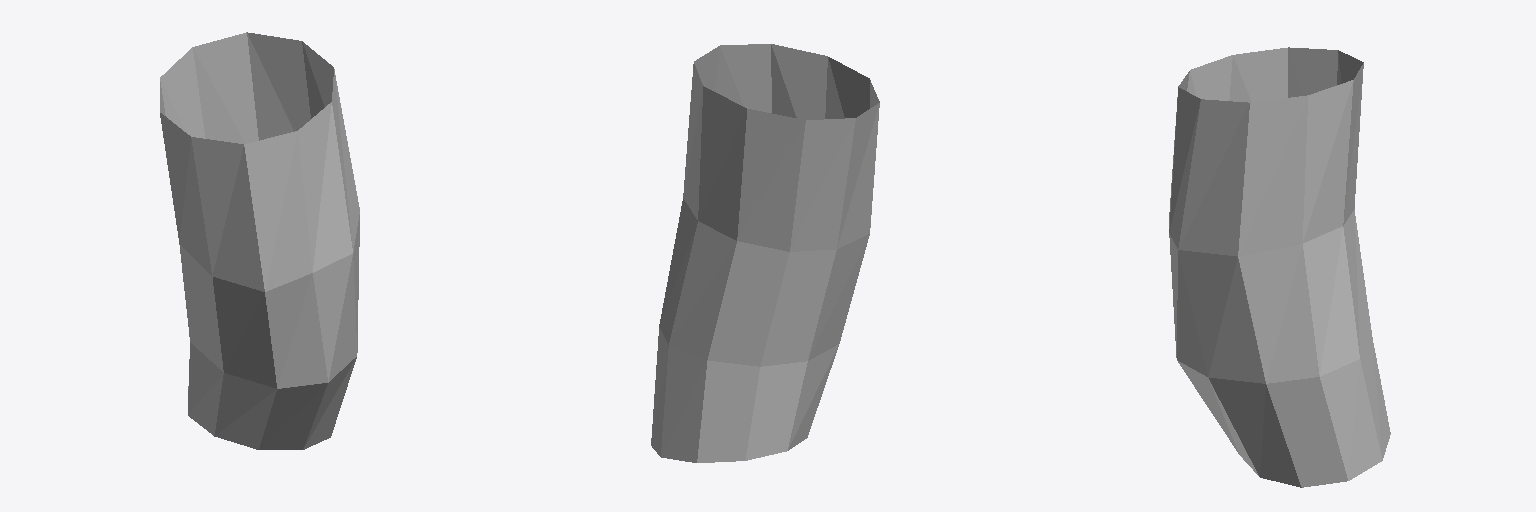
Rendered from leftleg2.obj.
The picture shows the model from 3 angles: view 1: azimuth 30°, elevation 25°; view 2: azimuth 150°, elevation 25°; view 3: azimuth 270°, elevation 25°; orthographic projection.
Parts seen in each view (by area): view 1: body; view 2: body; view 3: body.
Boxes of the visible parts, x1,y1,x2,y2 form: body: [160, 32, 359, 449]; body: [651, 44, 879, 462]; body: [1169, 47, 1390, 487].
Bounding box in the file's own units: 15.43 × 30.39 × 16.08.